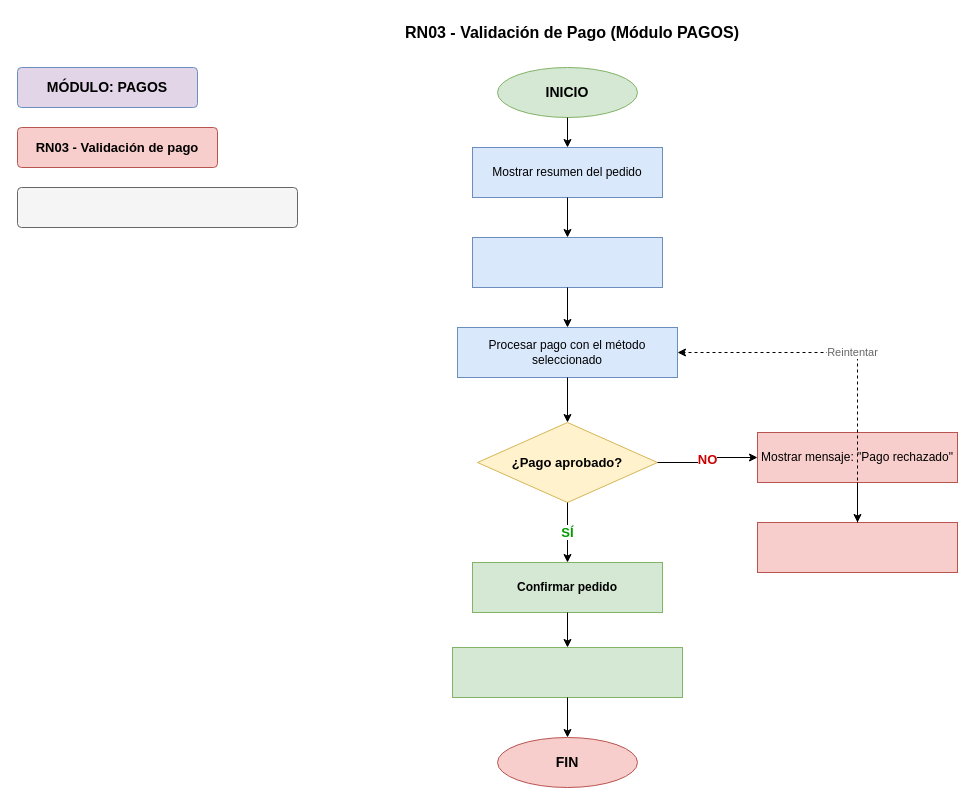
The diagram is 975 pixels wide and 805 high, and some of its shapes have lost their labels. The box of each missing label's shape, as (x1, y1, x2, y2) in pixels:
Descripción: Un pedido solo se confirma si el pago es aprobado: (16, 186, 298, 228)
Mostrar mensaje: "Pedido confirmado": (452, 646, 682, 698)
Solicitar método de pago: (472, 236, 662, 288)
Sugerir otro método de pago: (756, 522, 958, 572)
